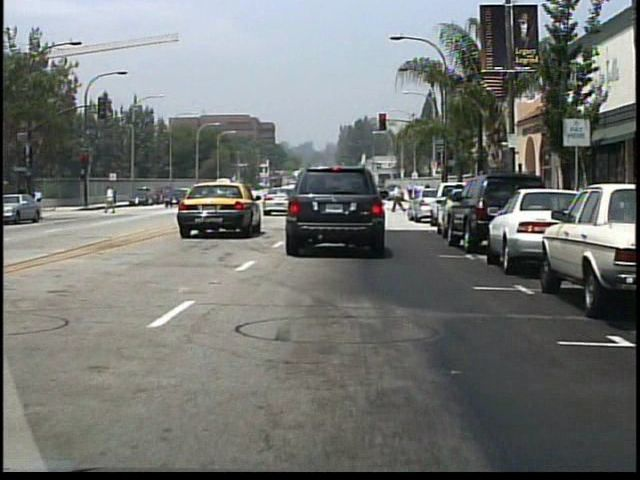person: (389, 183, 407, 216), (103, 187, 120, 217), (33, 188, 47, 212)
